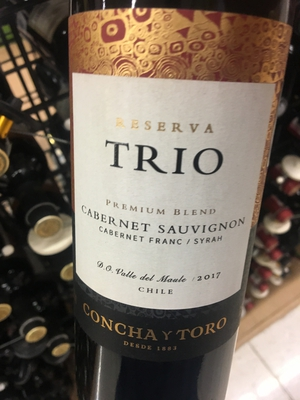trio cabernet sauvignon: (62, 1, 295, 400)
